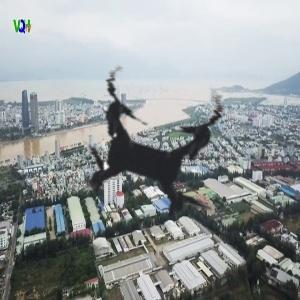drone: (14, 14, 286, 286)
